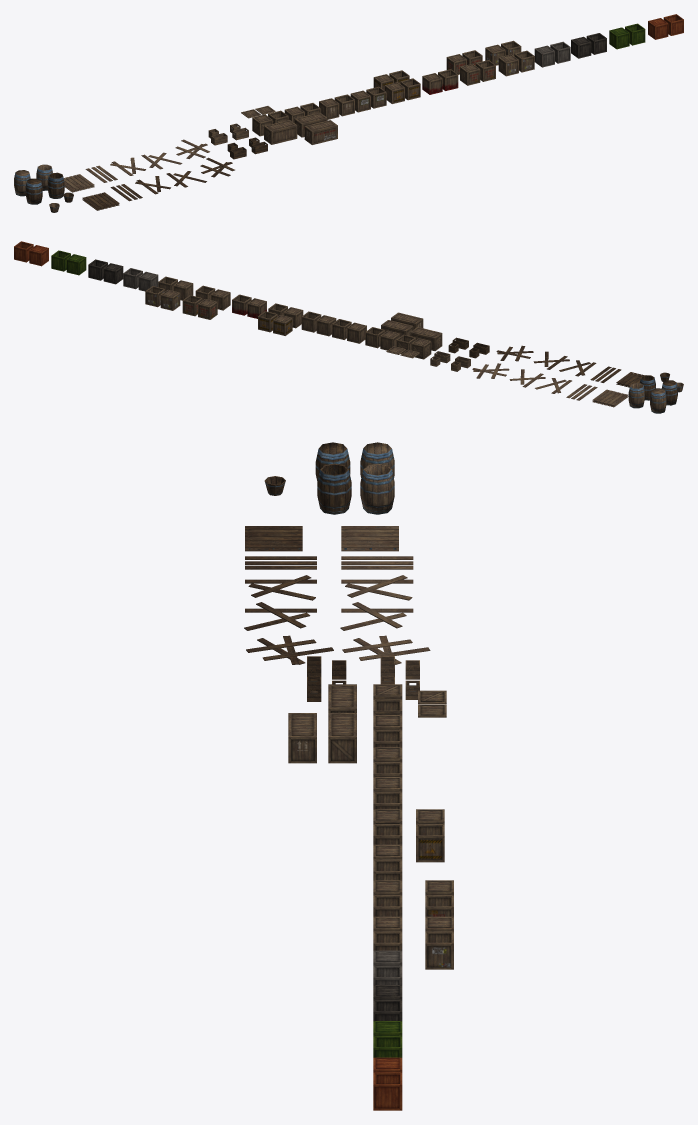
Rendered from WoodenProps.fbx.
3 renders of one model, top to bottom at view 1: azimuth 30°, elevation 25°; view 2: azimuth 150°, elevation 25°; view 3: azimuth 270°, elevation 25°, orthographic. The views are drawn at different scales.
Parts seen in each view (by area): view 1: Prop_WoodenCrate_Long_A, Prop_WoodenCrate_Long_C, Prop_WoodPallet_B, Prop_WoodenBarrel_02_A, Prop_WoodenBarrel_02_B, Prop_WoodenCrate_Long_B, Prop_WoodPallet_A, Prop_WoodenCrate10_A, Prop_WoodenCrate08_A, Prop_WoodenCrate11_A, Prop_WoodenCrate06_A, Prop_WoodenCrate07_A (+16 smaller); view 2: Prop_WoodenCrate_Long_A, Prop_WoodPallet_A, Prop_WoodenBarrel_01_B, Prop_WoodenBarrel_01_A, Prop_WoodenCrate08_C, Prop_WoodenCrate11_A, Prop_WoodenCrate10_A, Prop_WoodenCrate07_C, Prop_WoodenCrate05_C, Prop_WoodenCrate12_A, Prop_WoodenCrate03_A, Prop_WoodenCrate_Long_B (+20 smaller); view 3: Prop_WoodenBarrel_02_B, Prop_WoodenBarrel_01_B, Prop_WoodPallet_A, Prop_WoodPallet_B, Prop_WoodenCrate_Long_B, Prop_WoodenCrate_Long_C, Prop_WoodenCrate12_B, Prop_WoodenCrate05_D, Prop_WoodenCrate08_D.
Part boxes in pixels (x1,y1,x2,y2): Prop_WoodenCrate_Long_A: (264,120,297,144); Prop_WoodenCrate_Long_C: (304,120,337,144); Prop_WoodPallet_B: (82,192,119,210); Prop_WoodenBarrel_02_A: (25,178,42,204); Prop_WoodenBarrel_02_B: (47,172,64,198); Prop_WoodenCrate_Long_B: (294,112,327,137); Prop_WoodPallet_A: (63,174,94,192); Prop_WoodenCrate10_A: (571,36,591,58); Prop_WoodenCrate08_A: (498,54,518,76); Prop_WoodenCrate11_A: (609,27,629,49); Prop_WoodenCrate06_A: (422,73,442,94); Prop_WoodenCrate07_A: (460,64,480,85); Prop_WoodenCrate_Long_A: (410,327,442,350); Prop_WoodPallet_A: (592,389,628,407); Prop_WoodenBarrel_01_B: (628,383,644,408); Prop_WoodenBarrel_01_A: (650,388,666,413); Prop_WoodenCrate08_C: (160,289,180,310); Prop_WoodenCrate11_A: (66,254,86,275); Prop_WoodenCrate10_A: (103,263,123,284); Prop_WoodenCrate07_C: (198,299,217,319); Prop_WoodenCrate05_C: (273,315,292,335); Prop_WoodenCrate12_A: (29,245,48,266); Prop_WoodenCrate03_A: (347,322,366,343); Prop_WoodenCrate_Long_B: (381,320,413,336); Prop_WoodenBarrel_02_B: (317,463,351,514); Prop_WoodenBarrel_01_B: (360,463,394,514); Prop_WoodPallet_A: (341,526,398,551); Prop_WoodPallet_B: (245,526,302,551); Prop_WoodenCrate_Long_B: (328,713,356,763); Prop_WoodenCrate_Long_C: (288,713,316,763); Prop_WoodenCrate12_B: (373,1072,402,1110); Prop_WoodenCrate05_D: (416,824,444,862); Prop_WoodenCrate08_D: (425,931,453,969).
Size of the model in its own units: 5177 by 167 by 729.
